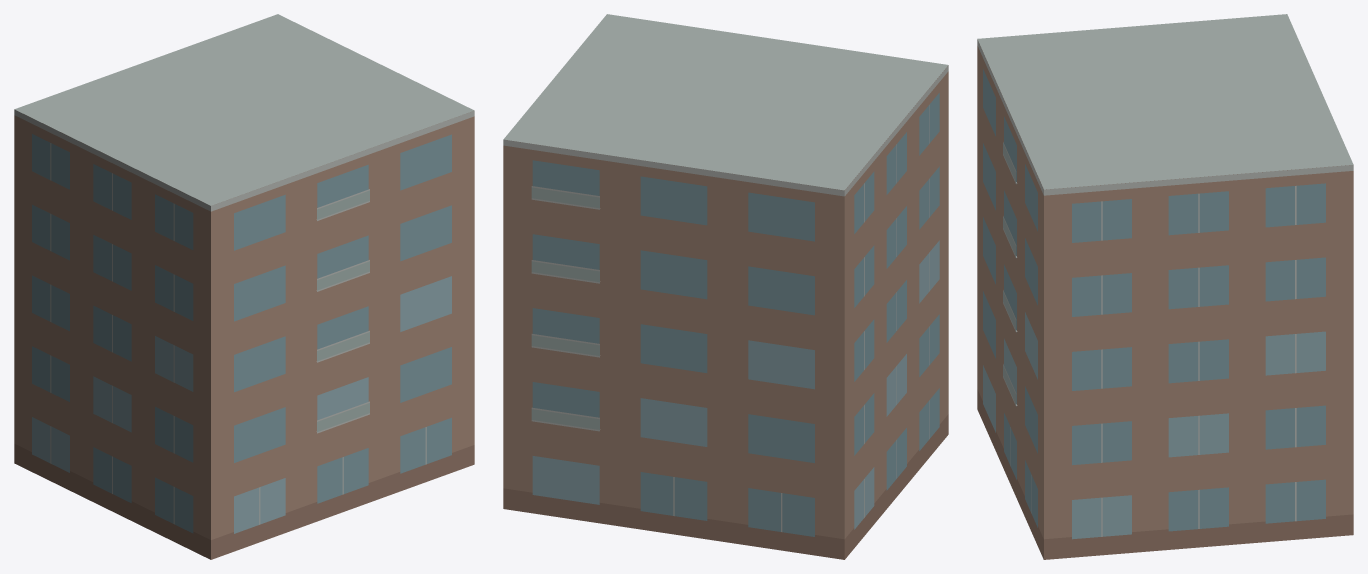
Rendered from survey-upis-32724627.glb.
3 renders of one model, left to right at view 1: azimuth 30°, elevation 25°; view 2: azimuth 150°, elevation 25°; view 3: azimuth 270°, elevation 25°, orthographic. The views are drawn at different scales.
Visible parts, largest first — view 1: survey-upis-32724627.tmp; view 2: survey-upis-32724627.tmp; view 3: survey-upis-32724627.tmp.
Boxes of the visible parts, left/top/right/bottom form: survey-upis-32724627.tmp: left=14, top=14, right=474, bottom=559; survey-upis-32724627.tmp: left=503, top=14, right=948, bottom=559; survey-upis-32724627.tmp: left=977, top=14, right=1353, bottom=559.
Bounding box in the file's own units: 15.22 × 14.95 × 13.78.
